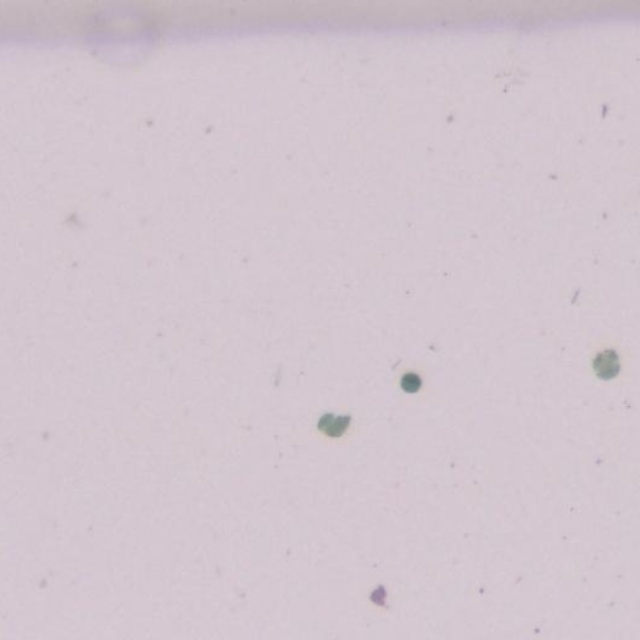non_viable: (318, 411, 351, 439), (592, 349, 619, 379), (400, 374, 421, 393)
